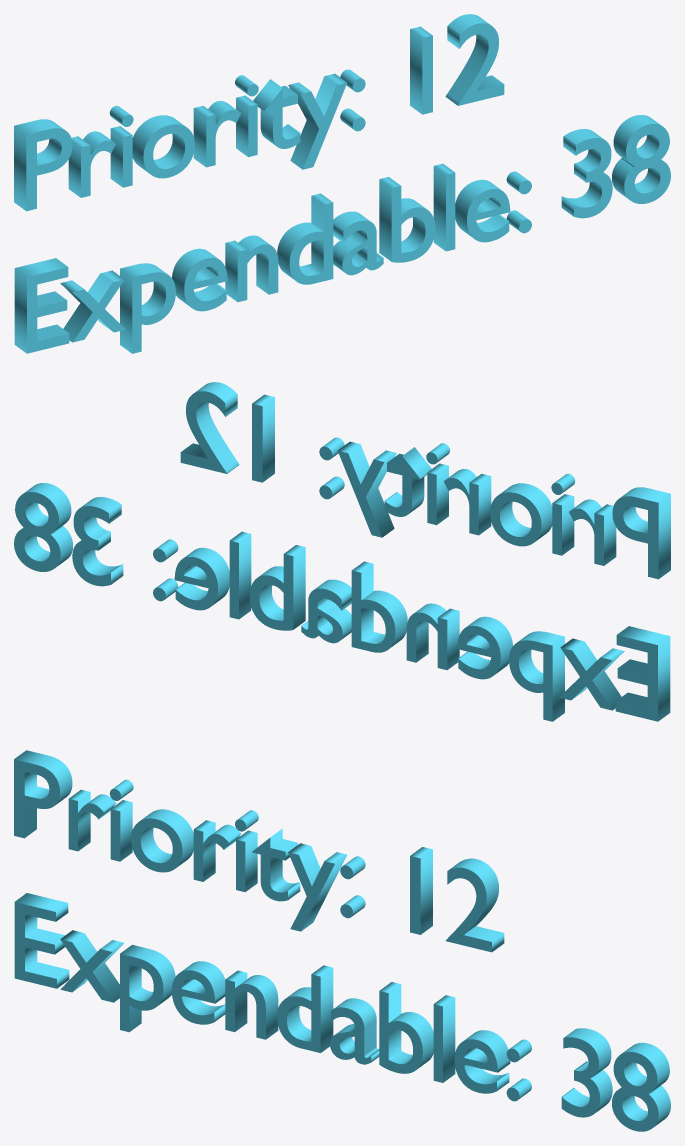
The model's file is console_test_010_result.fbx.
3 views of the same model, one above another, from view 1: azimuth 30°, elevation 25°; view 2: azimuth 150°, elevation 25°; view 3: azimuth 330°, elevation 25° (orthographic).
Parts seen in each view (by area): view 1: Txt_Test_01.042, Txt_Test_01.041; view 2: Txt_Test_01.042, Txt_Test_01.041; view 3: Txt_Test_01.042, Txt_Test_01.041.
Boxes of the visible parts, bbox=[...] form: Txt_Test_01.042: bbox=[14, 115, 670, 353]; Txt_Test_01.041: bbox=[14, 14, 504, 211]; Txt_Test_01.042: bbox=[14, 483, 670, 721]; Txt_Test_01.041: bbox=[180, 382, 670, 579]; Txt_Test_01.042: bbox=[14, 893, 670, 1131]; Txt_Test_01.041: bbox=[14, 750, 504, 952].
Size of the model in its own units: 0.8105 by 0.2955 by 0.027.
